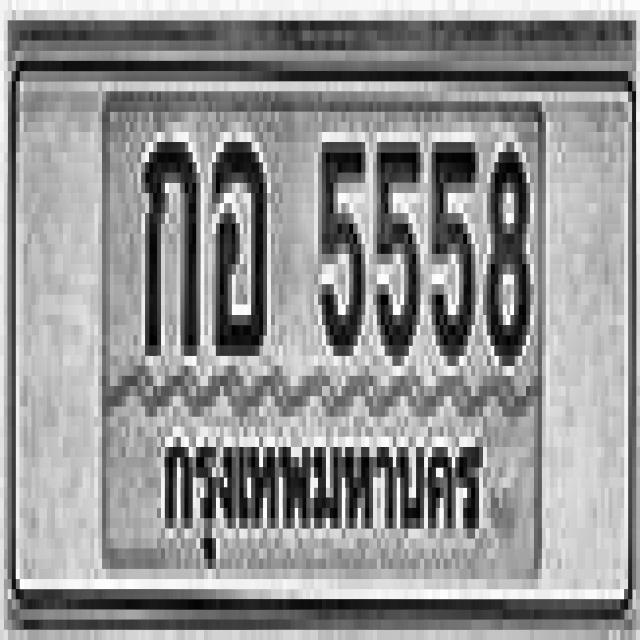license-plate: (13, 60, 631, 604)
